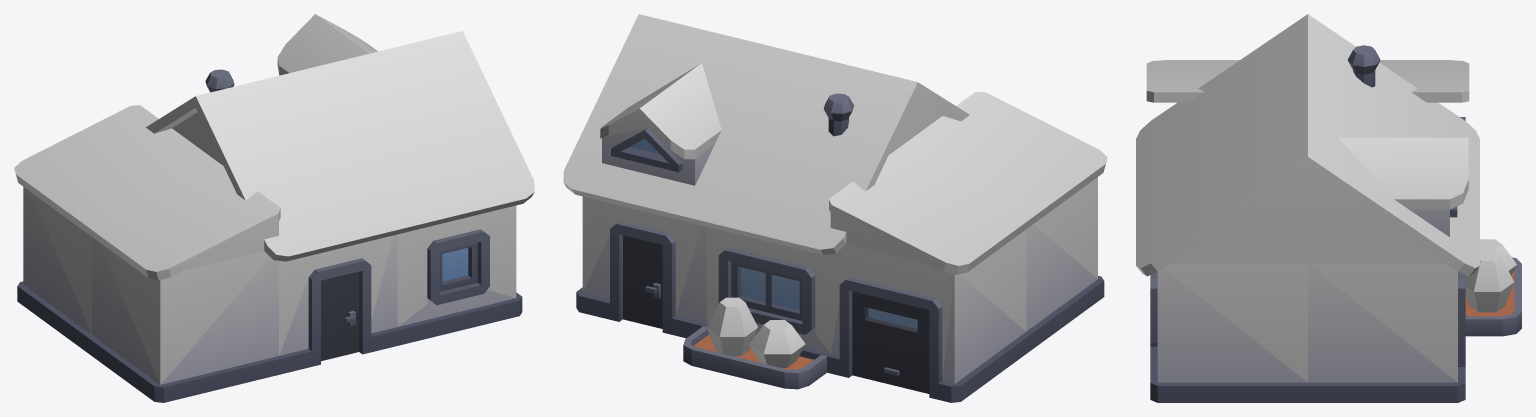
The model's file is haus_i.glb.
3 renders of one model, left to right at view 1: azimuth 30°, elevation 25°; view 2: azimuth 150°, elevation 25°; view 3: azimuth 270°, elevation 25°, orthographic. The views are drawn at different scales.
Parts seen in each view (by area): view 1: dach, rest, wand; view 2: dach, rest, wand; view 3: dach, wand, rest.
Part boxes in pixels (x1,y1,x2,y2): dach: [14, 14, 534, 280]; rest: [17, 69, 522, 402]; wand: [30, 112, 516, 384]; dach: [563, 14, 1107, 367]; rest: [576, 93, 1104, 402]; wand: [582, 99, 1097, 379]; dach: [1136, 14, 1516, 312]; wand: [1163, 170, 1457, 382]; rest: [1150, 45, 1521, 402].
Size of the model in its own units: 1.29 by 0.7375 by 1.03.
